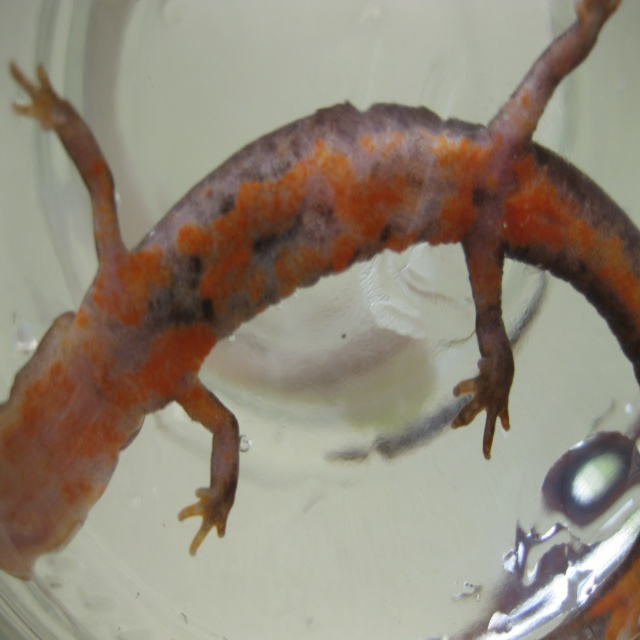Lizard: (0, 4, 640, 564)
